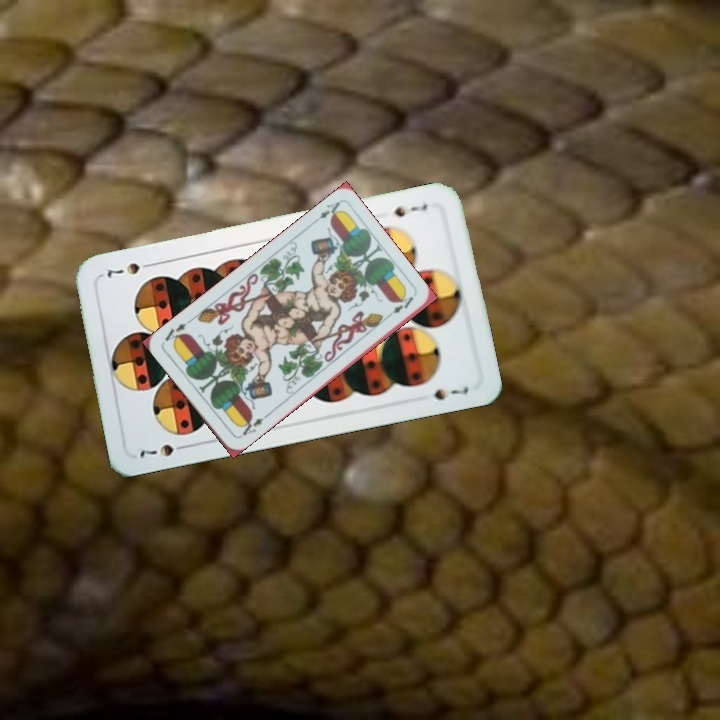EA: (308, 197, 345, 227), (235, 411, 270, 441)
S7: (135, 440, 192, 460), (389, 199, 430, 220)
